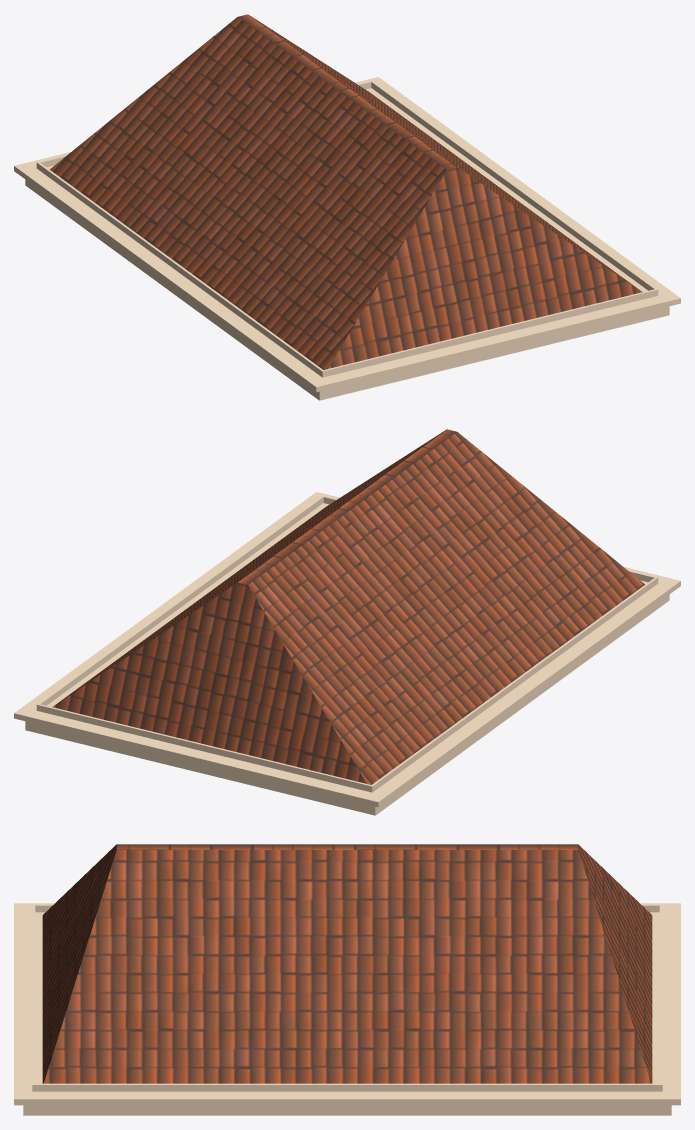
Rendered from BigRoof.fbx.
3 renders of one model, top to bottom at view 1: azimuth 30°, elevation 25°; view 2: azimuth 150°, elevation 25°; view 3: azimuth 270°, elevation 25°, orthographic. The views are drawn at different scales.
Visible parts, largest first — view 1: BigRoof; view 2: BigRoof; view 3: BigRoof.
Boxes of the visible parts, bbox=[...] form: BigRoof: bbox=[14, 14, 680, 400]; BigRoof: bbox=[14, 429, 680, 815]; BigRoof: bbox=[14, 844, 680, 1115].
Bounding box in the file's own units: 825 × 342 × 1186.
